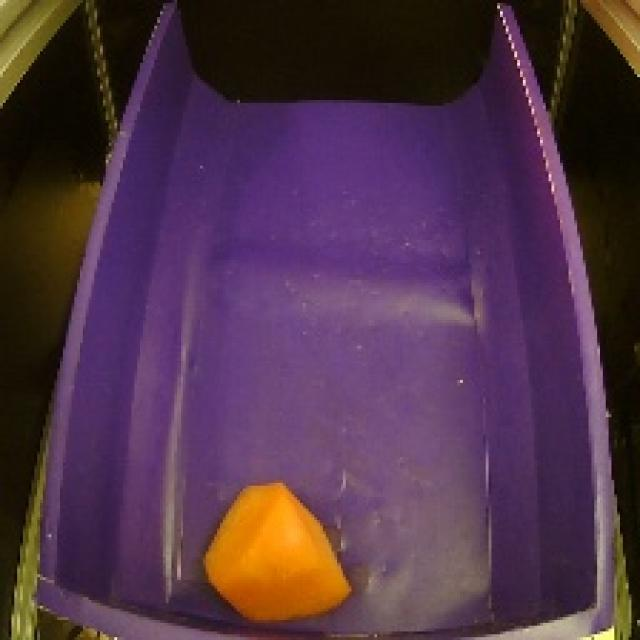carrots: (191, 467, 361, 634)
